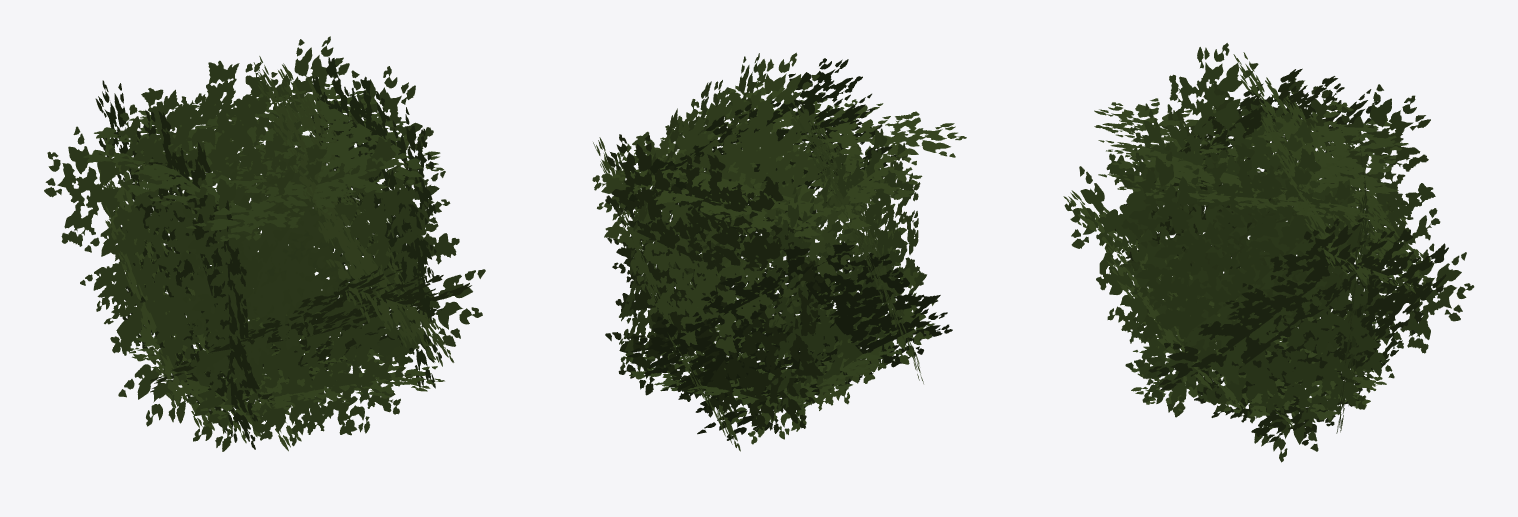
Rendered from bush_a.glb.
3 renders of one model, left to right at view 1: azimuth 30°, elevation 25°; view 2: azimuth 150°, elevation 25°; view 3: azimuth 270°, elevation 25°, orthographic. The views are drawn at different scales.
Parts seen in each view (by area): view 1: Object_53; view 2: Object_53; view 3: Object_53.
Part boxes in pixels (<box>): Object_53: <box>44,36,485,451</box>; Object_53: <box>592,52,966,451</box>; Object_53: <box>1063,43,1474,462</box>.
Size of the model in its own units: 2.72 by 3.21 by 2.99.
Materials: 1 (1 with a texture image).
